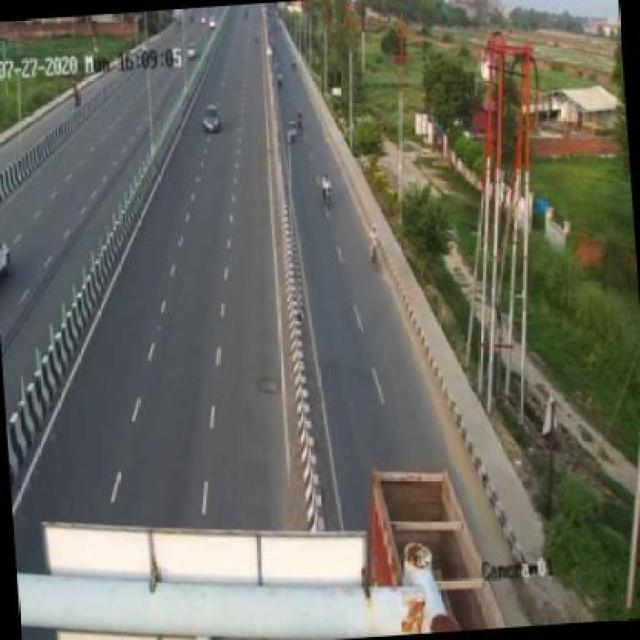car: (194, 103, 223, 142)
